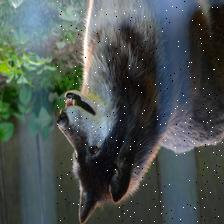WOLF: (57, 1, 224, 224)
